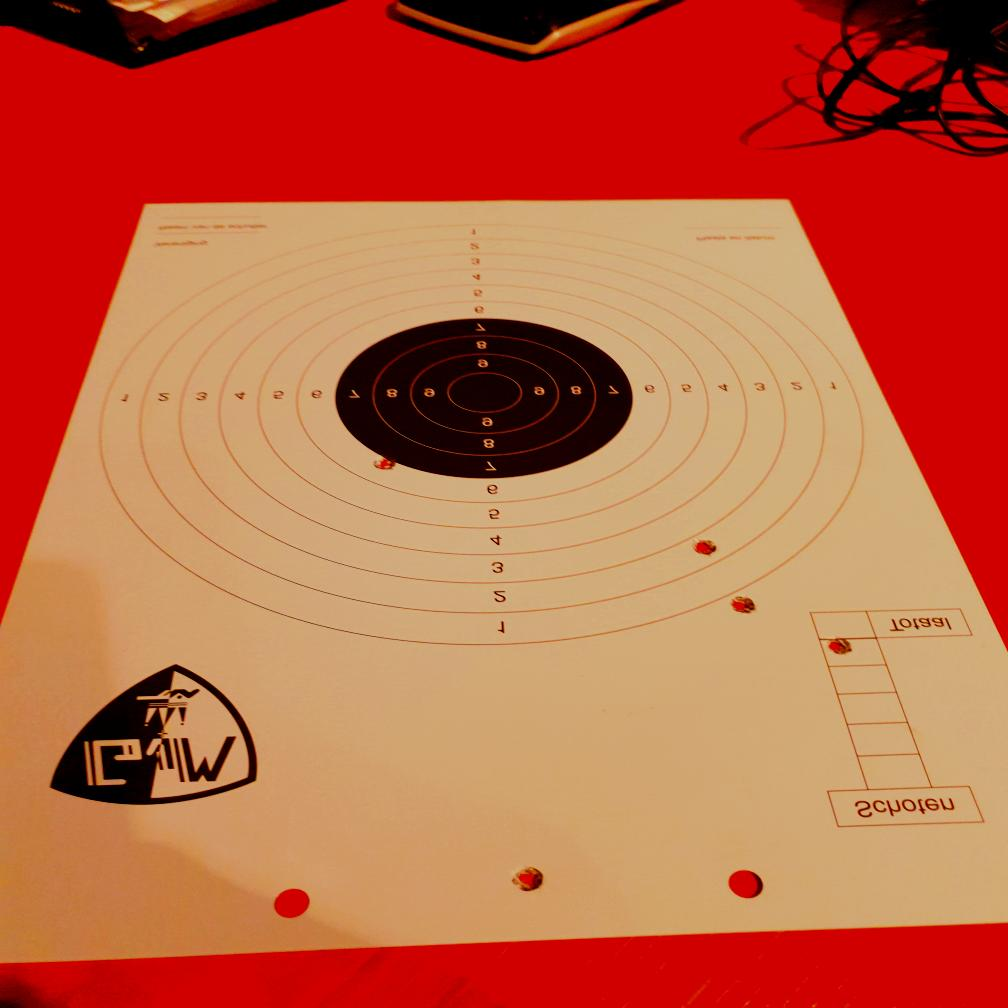0: (507, 866, 546, 894), (826, 636, 852, 656)
1: (727, 594, 759, 616)
2: (693, 536, 719, 557)
7: (370, 453, 402, 472)
Target: (94, 220, 868, 648)
black_contour: (336, 316, 631, 478)
